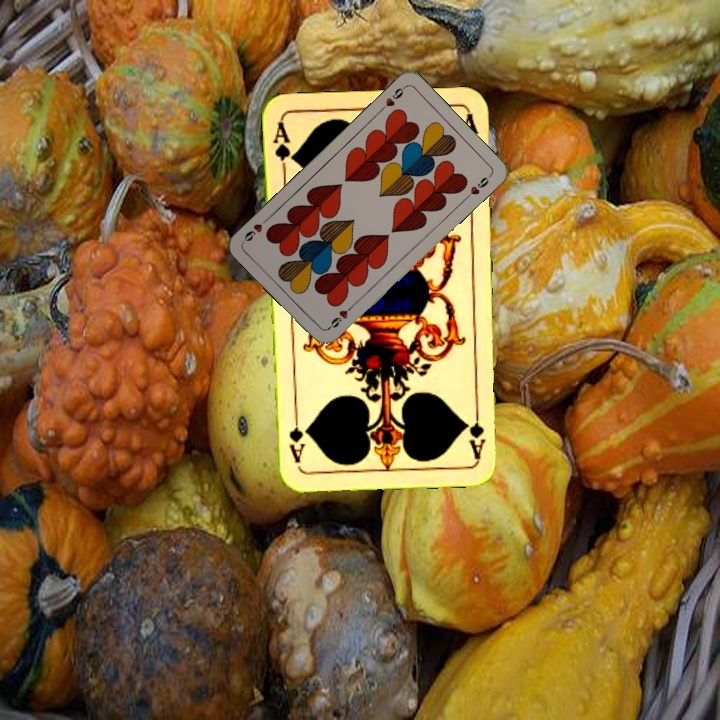GA: (269, 118, 297, 177), (466, 401, 488, 460)
H9: (376, 82, 408, 114), (324, 300, 356, 332)
